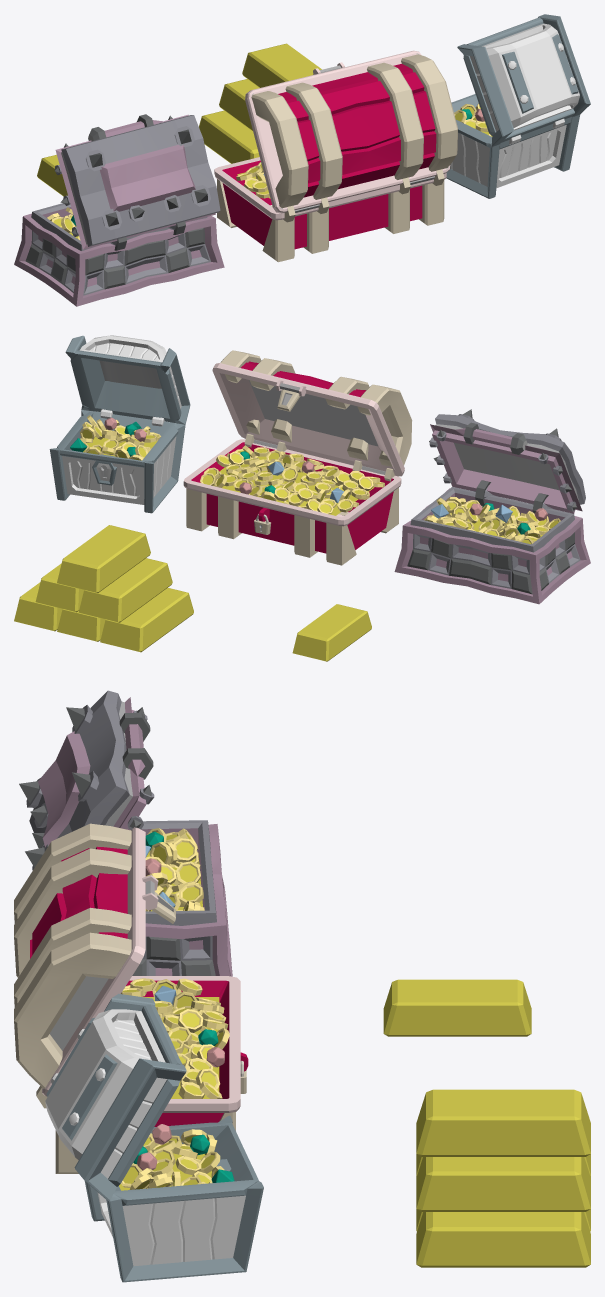
Rendered from Goal.fbx.
3 renders of one model, top to bottom at view 1: azimuth 30°, elevation 25°; view 2: azimuth 150°, elevation 25°; view 3: azimuth 270°, elevation 25°, orthographic. The views are drawn at different scales.
Visible parts, largest first — view 1: Opened_10, Opened, Treasure_Chest_5c, Opened_13, Treasure_Chest_2c, Treasure_Chest_1c, GoldPile, GoldBar, Gold_10, Gold_13, Gold; view 2: Opened_10, GoldPile, Treasure_Chest_5c, Treasure_Chest_2c, Opened, Opened_13, Treasure_Chest_1c, Gold_10, Gold, GoldBar, Gold_13, pPlane3; view 3: GoldPile, Opened_10, Opened_13, Treasure_Chest_1c, Opened, GoldBar, Treasure_Chest_5c, Gold_10, Treasure_Chest_2c, Gold_13, Gold.
Boxes of the visible parts, box(x1,y1,x2,y2) form: Opened_10: box(245, 50, 457, 213); Opened: box(54, 114, 220, 249); Treasure_Chest_5c: box(14, 203, 224, 306); Opened_13: box(457, 14, 590, 146); Treasure_Chest_2c: box(214, 157, 446, 262); Treasure_Chest_1c: box(446, 94, 580, 198); GoldPile: box(199, 43, 321, 163); GoldBar: box(37, 154, 67, 196); Gold_10: box(236, 162, 269, 198); Gold_13: box(454, 103, 492, 136); Gold: box(47, 207, 80, 240); Opened_10: box(212, 350, 412, 476); GoldPile: box(14, 525, 193, 652); Treasure_Chest_5c: box(394, 480, 590, 604); Treasure_Chest_2c: box(183, 434, 401, 565); Opened: box(429, 409, 585, 513); Opened_13: box(65, 335, 190, 424); Treasure_Chest_1c: box(49, 409, 185, 513); Gold_10: box(200, 445, 384, 513); Gold: box(424, 496, 560, 544); GoldBar: box(292, 604, 371, 661); Gold_13: box(70, 415, 161, 460); pPlane3: box(213, 457, 374, 515); GoldPile: box(416, 1089, 590, 1267); Opened_10: box(14, 823, 175, 1096); Opened_13: box(45, 993, 186, 1201); Treasure_Chest_1c: box(84, 1115, 263, 1282); Opened: box(19, 690, 154, 870); GoldBar: box(383, 979, 531, 1036); Treasure_Chest_5c: box(130, 820, 232, 976); Gold_10: box(121, 978, 229, 1098); Treasure_Chest_2c: box(36, 976, 248, 1173); Gold_13: box(121, 1124, 234, 1189); Gold: box(145, 828, 204, 911).
Bounding box in the file's own units: 3.27 × 1.08 × 2.06.
